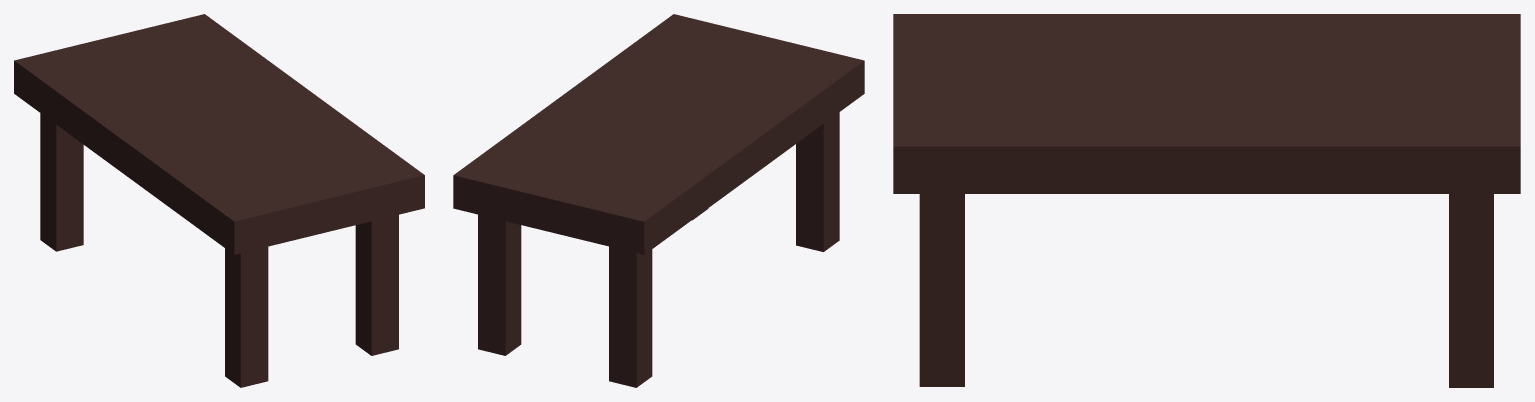
Rendered from Table.fbx.
3 views of the same model, side by side, from view 1: azimuth 30°, elevation 25°; view 2: azimuth 150°, elevation 25°; view 3: azimuth 270°, elevation 25° (orthographic). The views are drawn at different scales.
Parts seen in each view (by area): view 1: Table; view 2: Table; view 3: Table.
Boxes of the visible parts, x1,y1,x2,y2 form: Table: (14,14,424,387); Table: (453,14,864,387); Table: (893,14,1520,387).
Bounding box in the file's own units: 955 × 847 × 1911.
